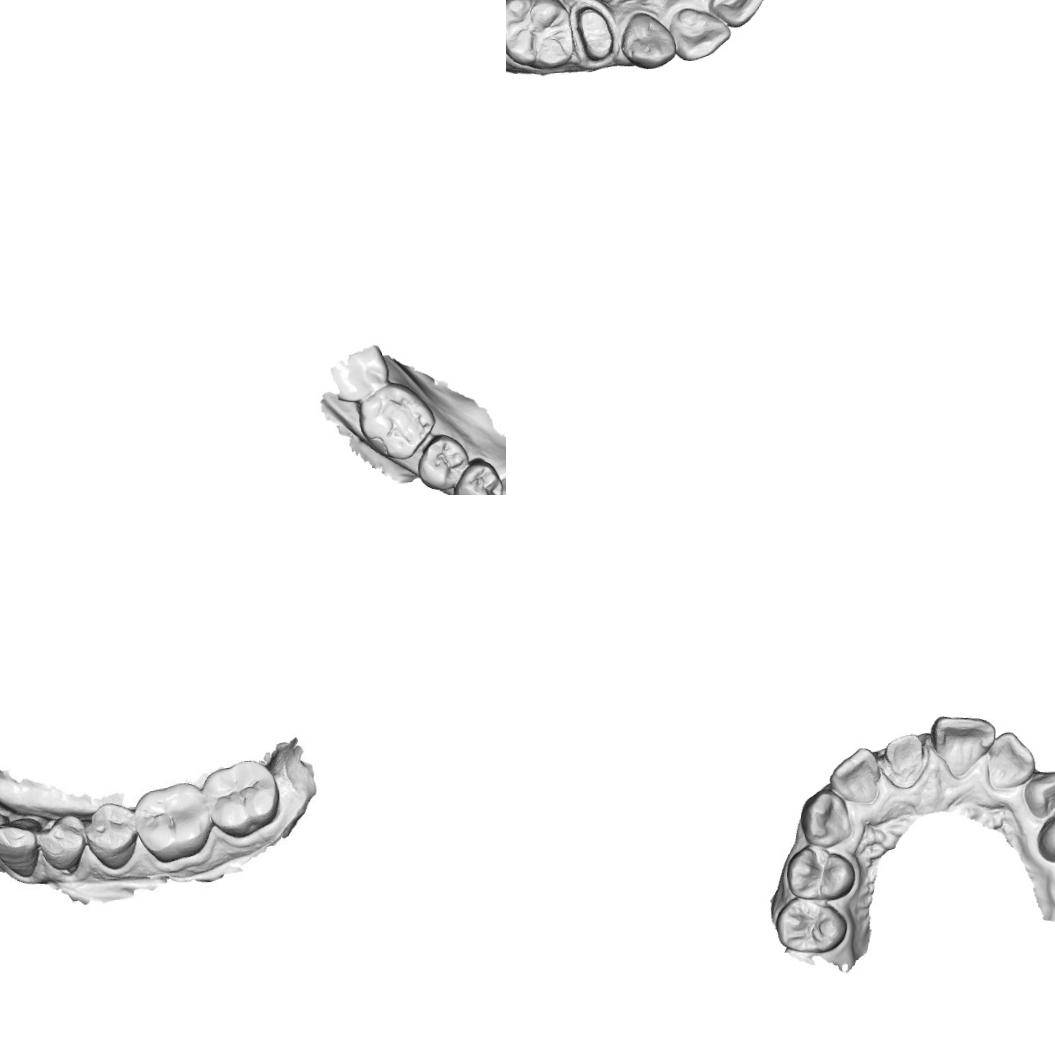canine: (796, 786, 853, 849), (620, 8, 676, 70), (0, 815, 42, 881), (1020, 766, 1055, 820)
crown: (570, 0, 618, 68)
incisor: (928, 712, 998, 780), (667, 4, 734, 62), (984, 728, 1037, 790), (826, 746, 882, 804), (880, 731, 928, 789), (705, 0, 773, 29)
molar: (356, 378, 438, 463), (134, 783, 212, 864), (205, 757, 282, 838), (506, 0, 578, 72)
premolar: (772, 894, 848, 956), (782, 841, 856, 900), (36, 810, 88, 878), (88, 802, 138, 872), (414, 430, 471, 490), (450, 455, 505, 495), (1033, 799, 1055, 863)
